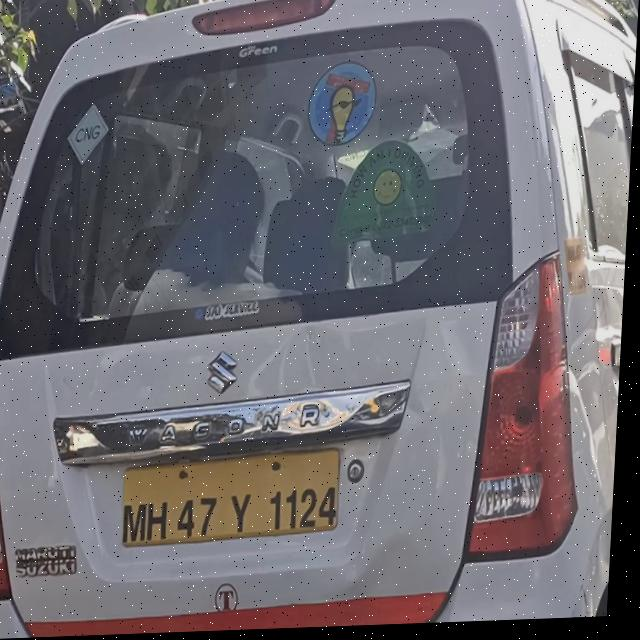plate: (124, 449, 347, 549)
